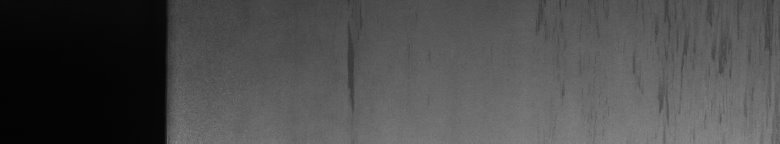ka: (633, 4, 776, 122)
